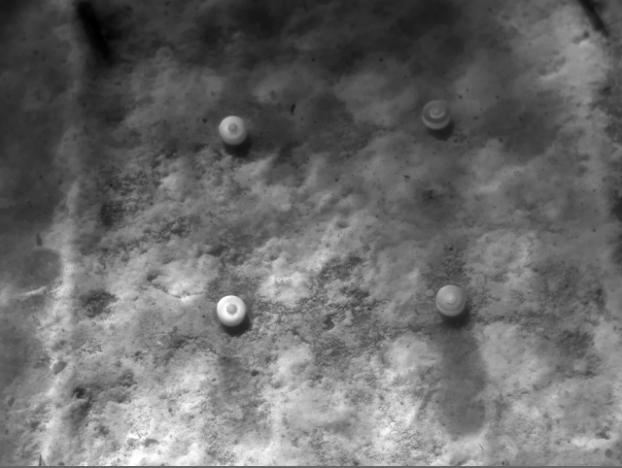landmine: (215, 291, 248, 324), (433, 284, 467, 316), (219, 115, 251, 145), (422, 98, 452, 127)
